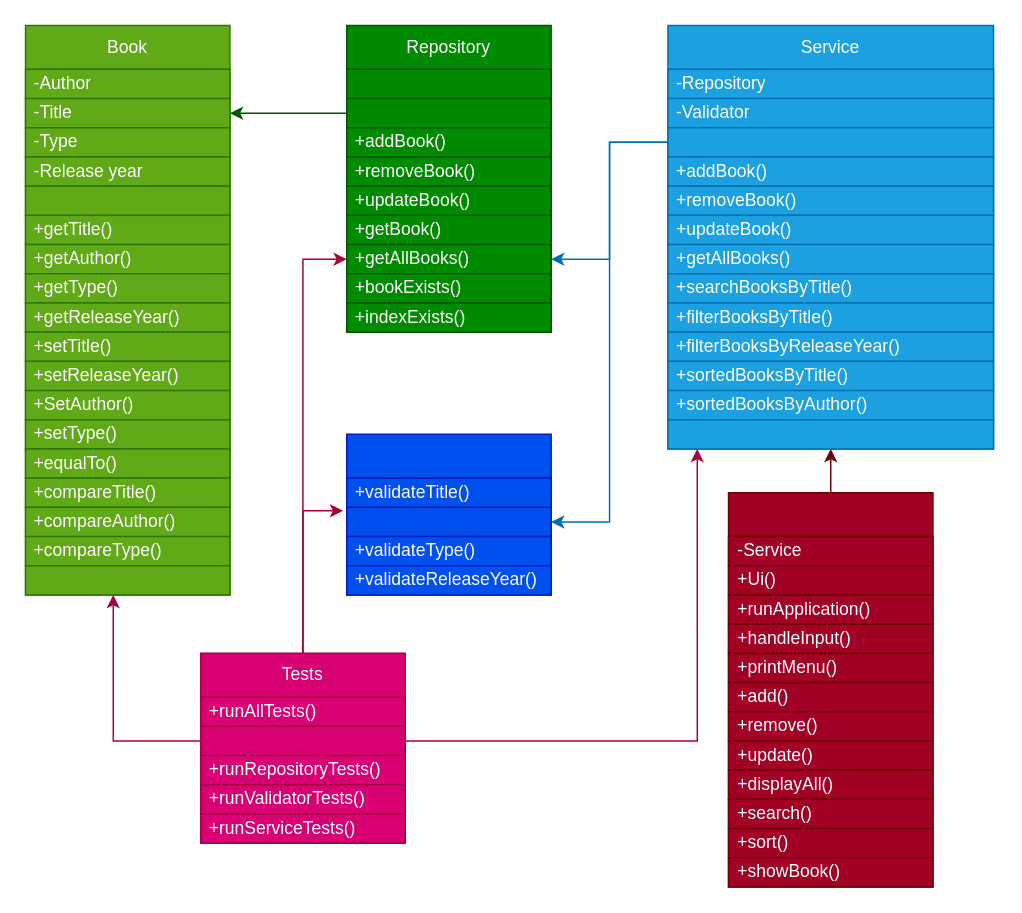
This 1022x913 diagram has some shape labels left out. The shapes that lost their labels are listed below. From the top down, each one's box as (x1, y1, x2, y2) in pixels, then its label:
(345, 68, 551, 99): -Books
(345, 97, 551, 128): +Repository()
(666, 126, 994, 157): +Service()
(24, 185, 230, 215): +Book()
(666, 418, 994, 449): +sortedBooksByReleaseDateAndType()
(345, 433, 551, 595): Validator
(345, 506, 551, 537): +validateAuthor()
(24, 564, 230, 595): +compareReleaseYear()
(727, 491, 933, 887): Ui
(199, 725, 405, 756): +runDomainTests()
